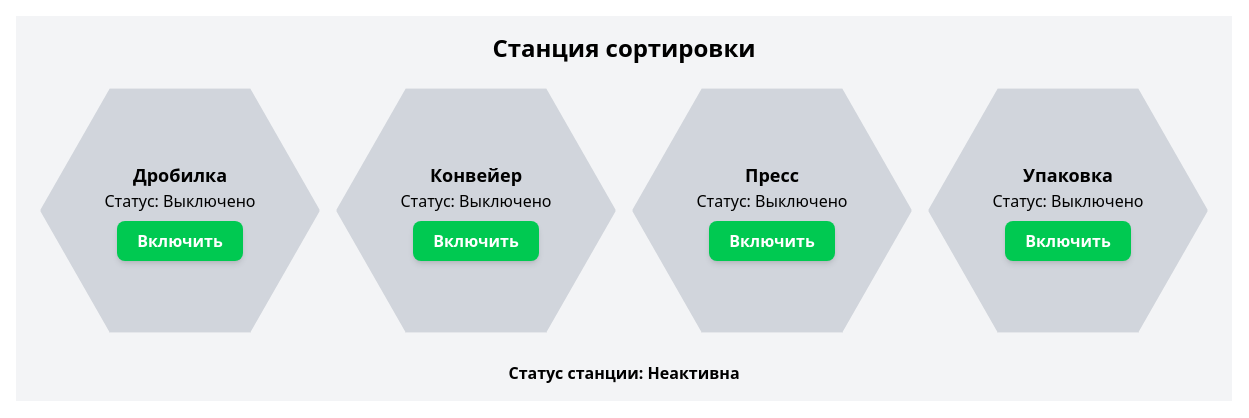
Test: Station Component › изменяет статус станции при включении устройства
Click the button "Включить" below "Дробилка".
click(180, 240)  # box [117,220,243,260]
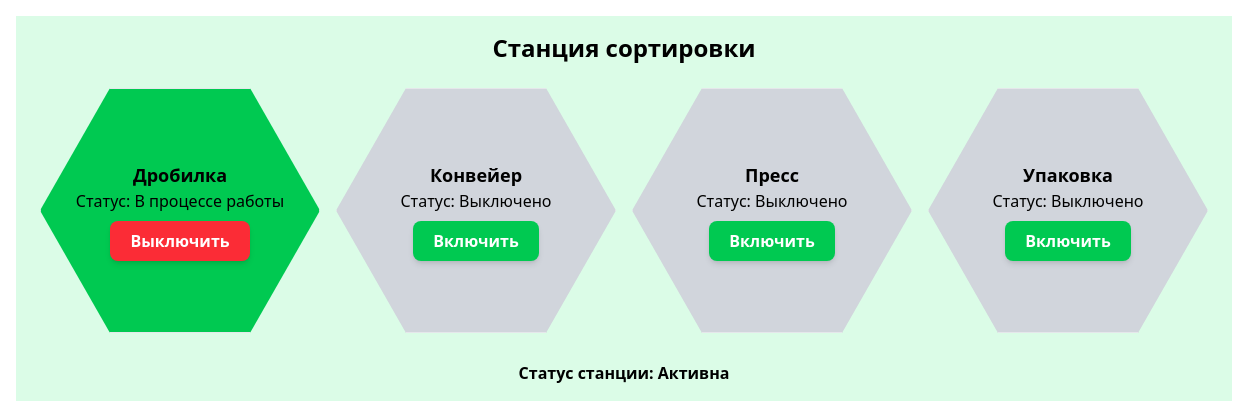
Check: the text "Статус станции: Активна" is shown, box [519,362,729,384]
